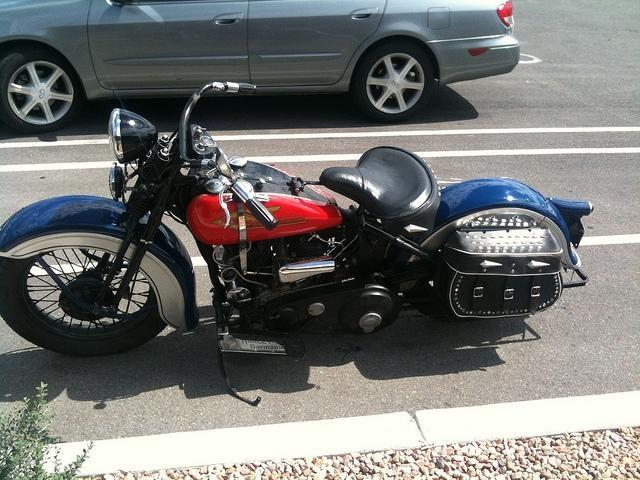car: (1, 1, 524, 122)
motorcycle: (0, 82, 586, 358)
